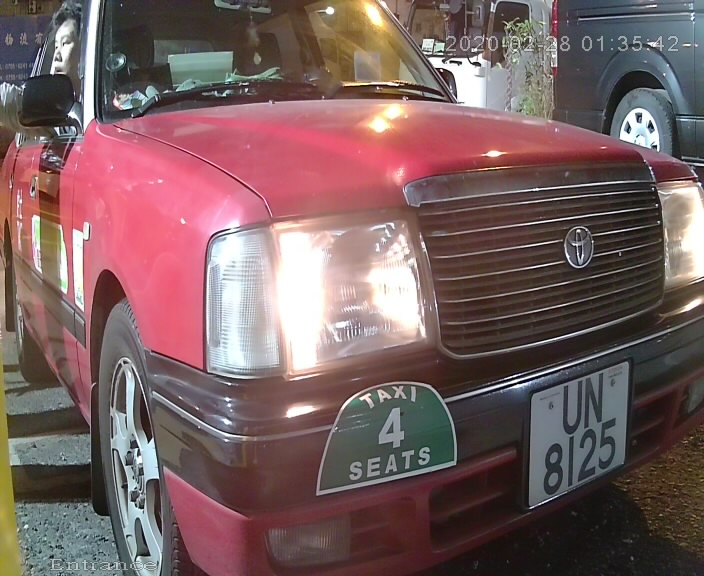taxi: (5, 2, 703, 565)
taxi_mark: (301, 362, 469, 515)
